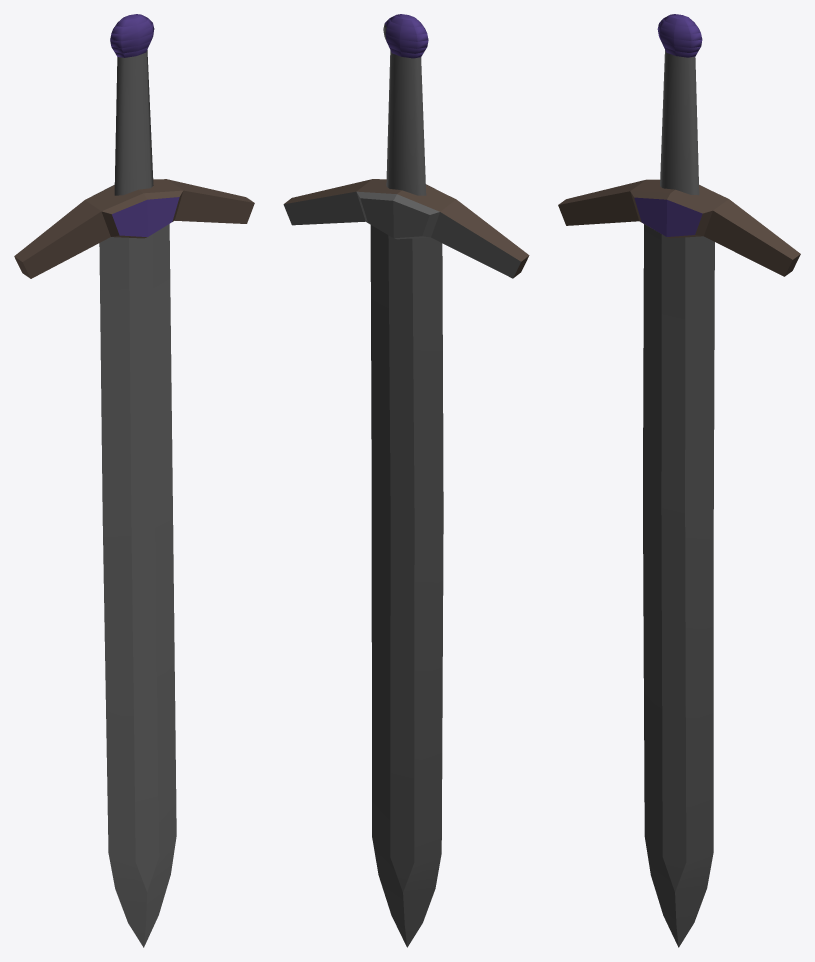
File: Sword_5fbx.fbx
3 renders of one model, left to right at view 1: azimuth 30°, elevation 25°; view 2: azimuth 150°, elevation 25°; view 3: azimuth 330°, elevation 25°, orthographic.
Visible parts, largest first — view 1: Sword3.014; view 2: Sword3.014; view 3: Sword3.014.
Part boxes in pixels (bbox=[...]): Sword3.014: bbox=[14, 14, 254, 947]; Sword3.014: bbox=[283, 14, 529, 947]; Sword3.014: bbox=[558, 14, 800, 947].
Bounding box in the file's own units: 22.33 × 84.58 × 4.35.
